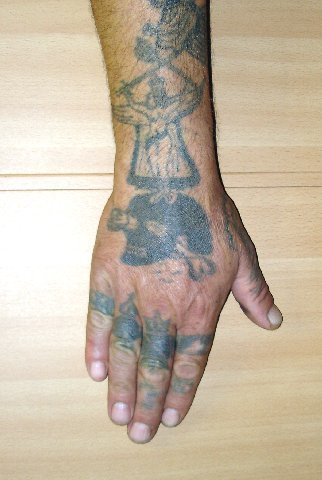tatu1_angel: (110, 63, 214, 192)
